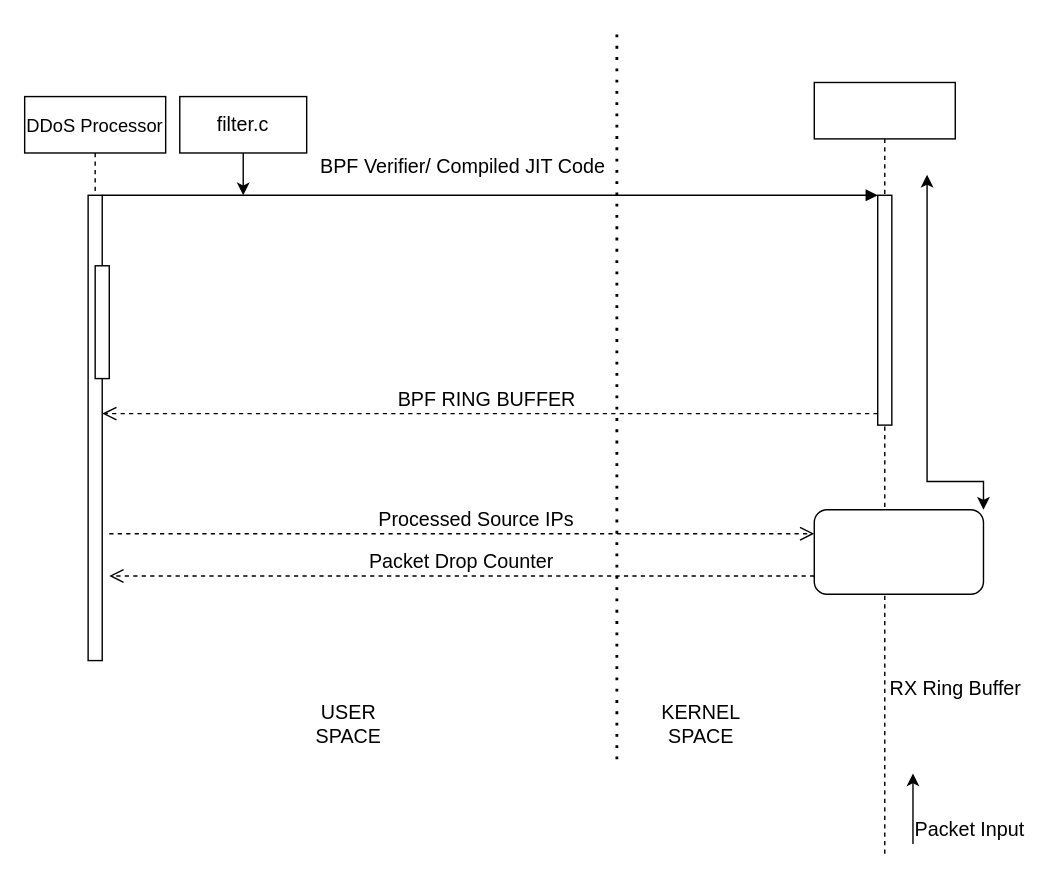
Some shapes in this 1058 by 883 pixel diagram are drawn without their labels. The shapes that lost their labels are listed below. From the top down, each one's box as (x1, y1, x2, y2) in pixels, then its label:
(813, 81, 955, 858): BPF VM
(813, 508, 983, 594): XDP Processing
